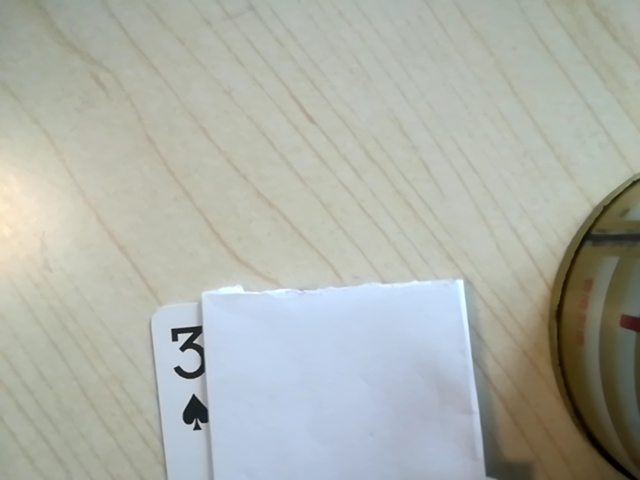ht 3: (161, 310, 220, 442)
